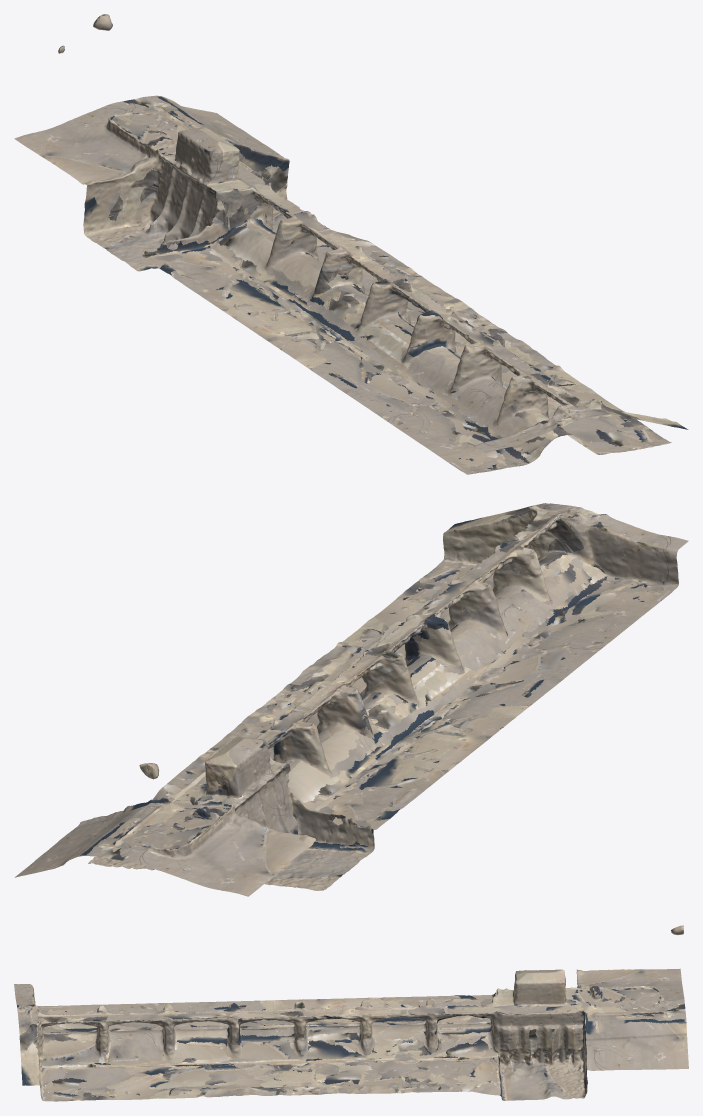
Rendered from bendungan.glb.
3 renders of one model, top to bottom at view 1: azimuth 30°, elevation 25°; view 2: azimuth 150°, elevation 25°; view 3: azimuth 270°, elevation 25°, orthographic. The views are drawn at different scales.
Visible parts, largest first — view 1: model; view 2: model; view 3: model.
Part boxes in pixels (x1,y1,x2,y2): model: (14,14,688,474); model: (14,503,688,896); model: (14,925,688,1101).
Size of the model in its own units: 6.63 by 4.41 by 20.93.
Materials: 1 (1 with a texture image).
